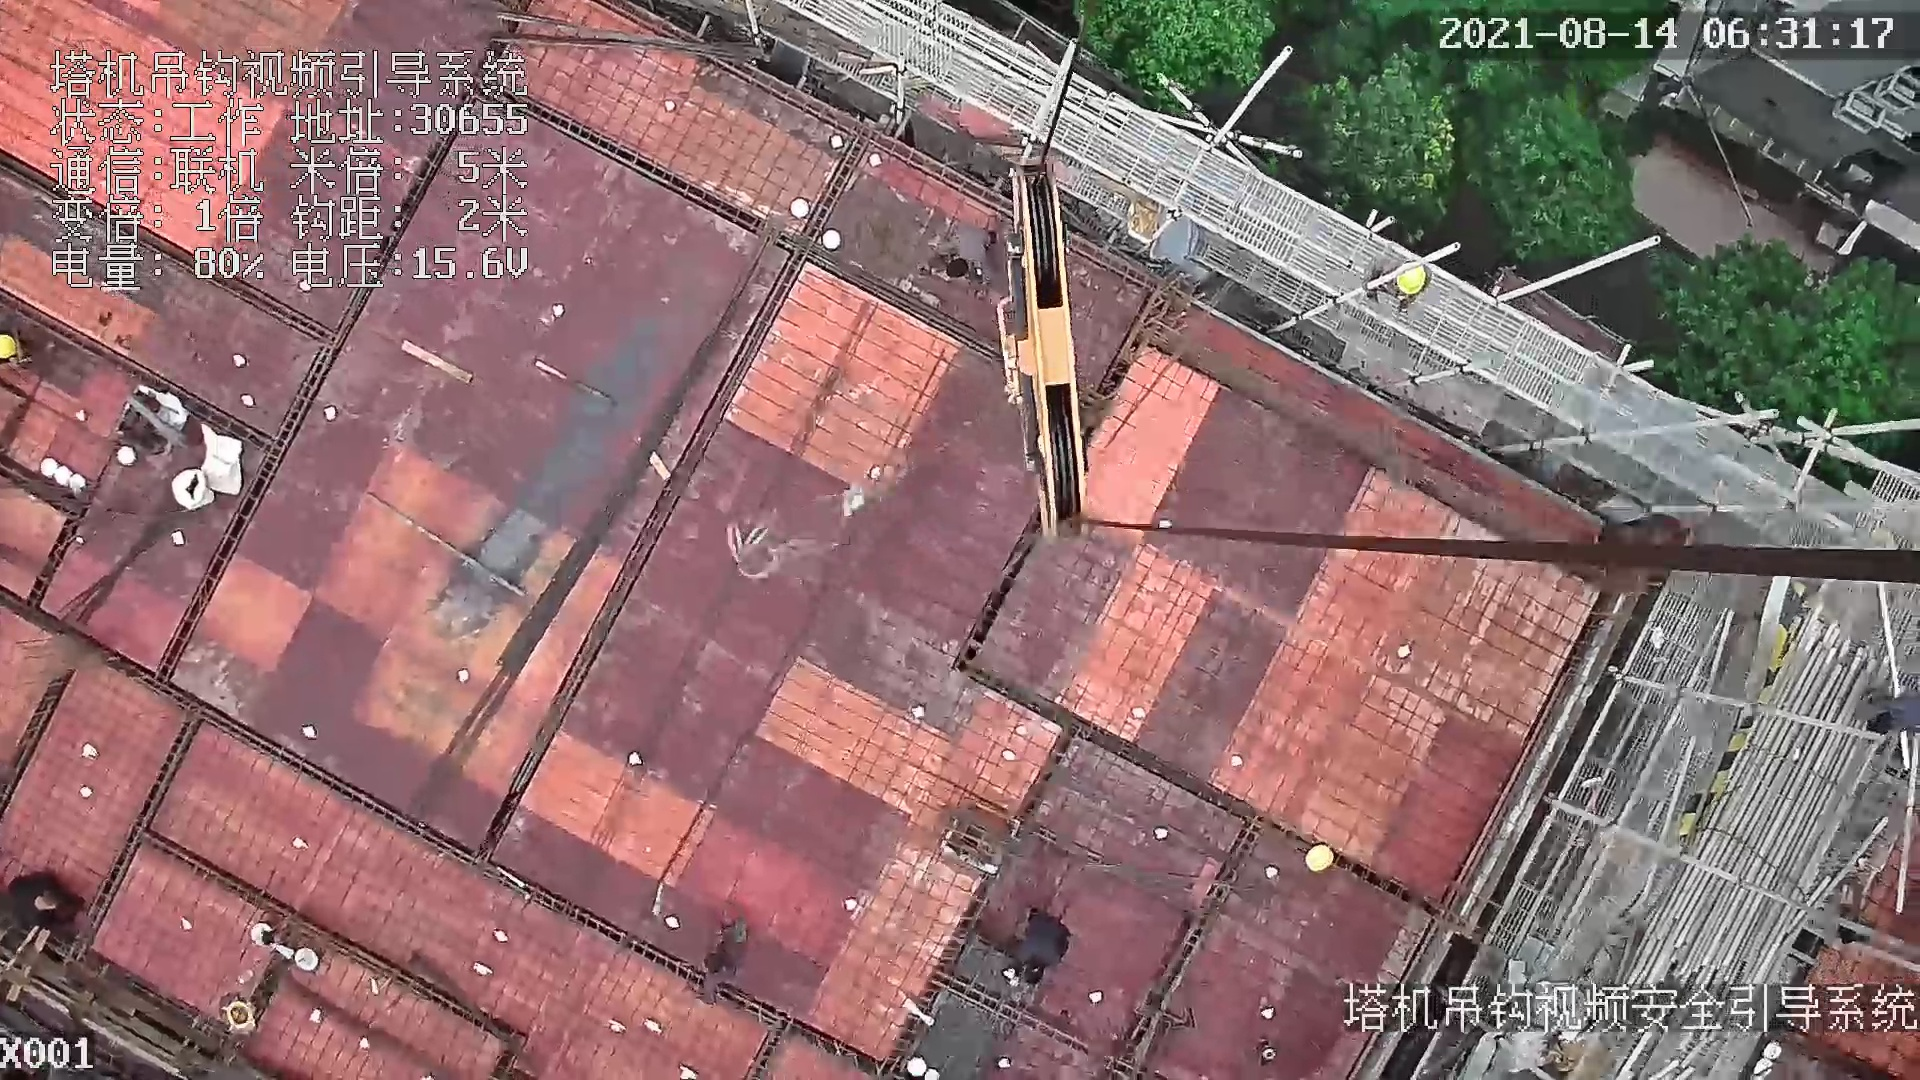helmet: (1297, 841, 1345, 876), (1394, 264, 1427, 296), (1, 333, 14, 367)
hook: (988, 160, 1094, 530)
person: (1000, 913, 1073, 986), (926, 217, 994, 289), (1360, 250, 1437, 312)
scaffold: (1672, 578, 1900, 1003)
